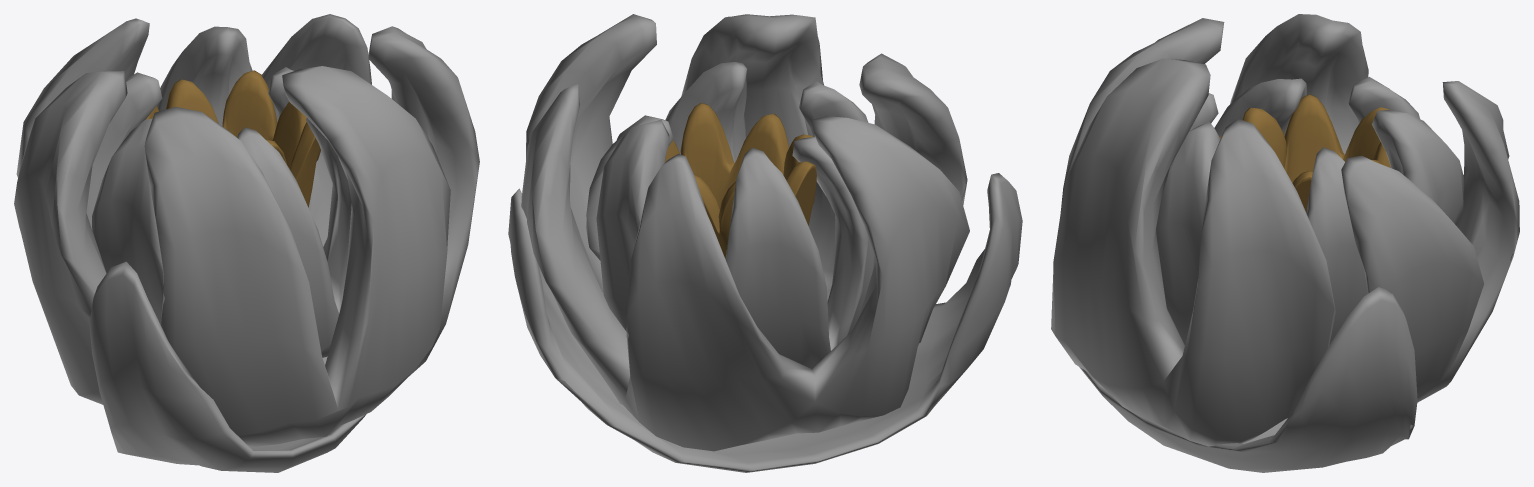
Rendered from LilyFlower_02_Thick.fbx.
3 renders of one model, left to right at view 1: azimuth 30°, elevation 25°; view 2: azimuth 150°, elevation 25°; view 3: azimuth 270°, elevation 25°, orthographic.
Parts seen in each view (by area): view 1: LilyFlower_02_Thick; view 2: LilyFlower_02_Thick; view 3: LilyFlower_02_Thick.
Part boxes in pixels (left/top/right/bottom): LilyFlower_02_Thick: left=14, top=14, right=479, bottom=472; LilyFlower_02_Thick: left=508, top=14, right=1022, bottom=472; LilyFlower_02_Thick: left=1051, top=14, right=1519, bottom=472.
Bounding box in the file's own units: 10.53 × 9.73 × 10.36.
